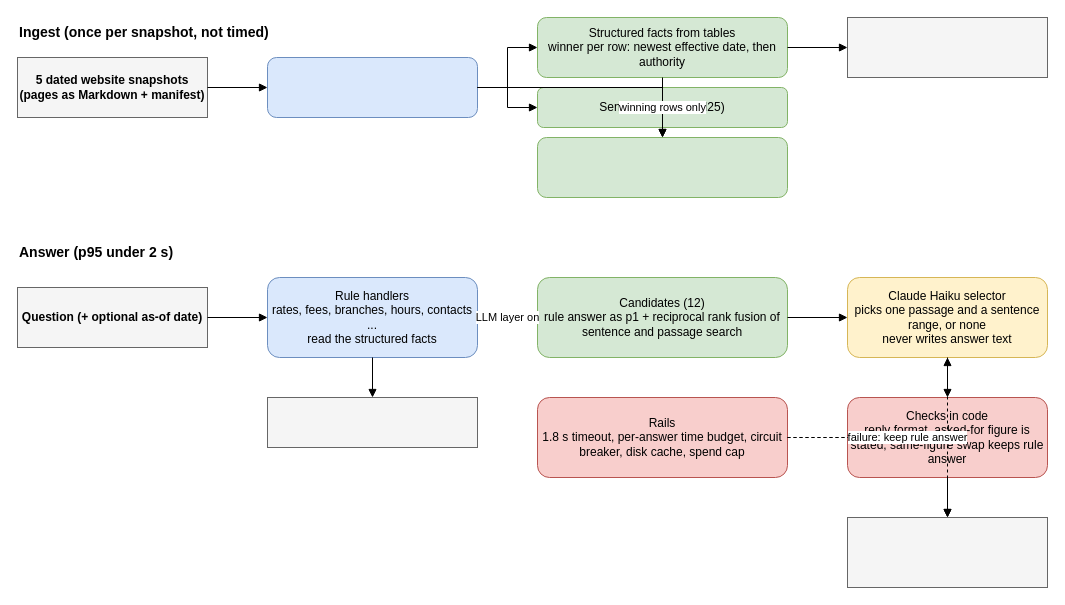
Some shapes in this 1065 by 605 pixel diagram are drawn without their labels. Each missing label, with the box of its shape:
Answer = the website's own sentences + source URLs or an honest refusal: (846, 516, 1048, 588)
conflicts() values that disagree + which one wins: (846, 16, 1048, 78)
LLM layer off (default): return rule answer or refusal: (266, 396, 478, 448)
Parse pages tables, sentences, dates, page authority: (266, 56, 478, 118)
Passage index (BM25) 120-word windows + one line per winning table row: (536, 136, 788, 198)
